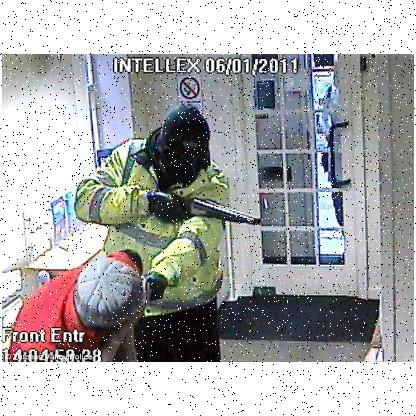gun: (149, 186, 265, 239)
